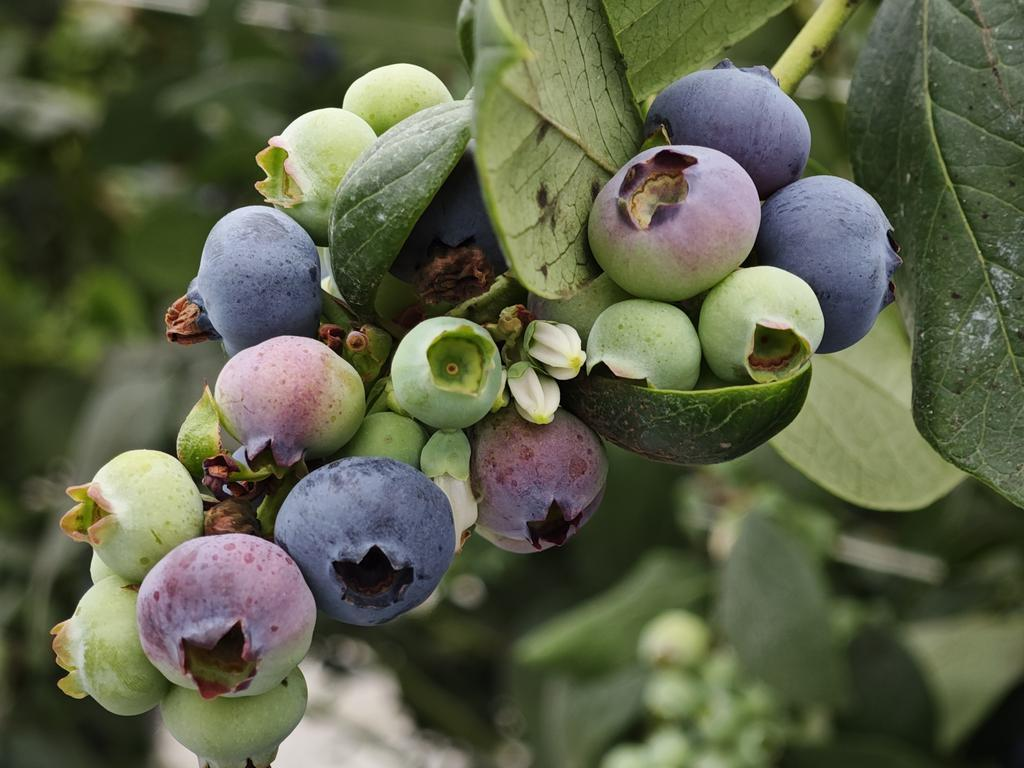RipeBlueBerry: (187, 205, 326, 334)
Semi-RipeBlueBerry: (140, 533, 316, 697), (586, 145, 759, 296), (214, 334, 368, 463), (475, 415, 606, 556)
UnripeBlueBerry: (392, 315, 504, 426)
